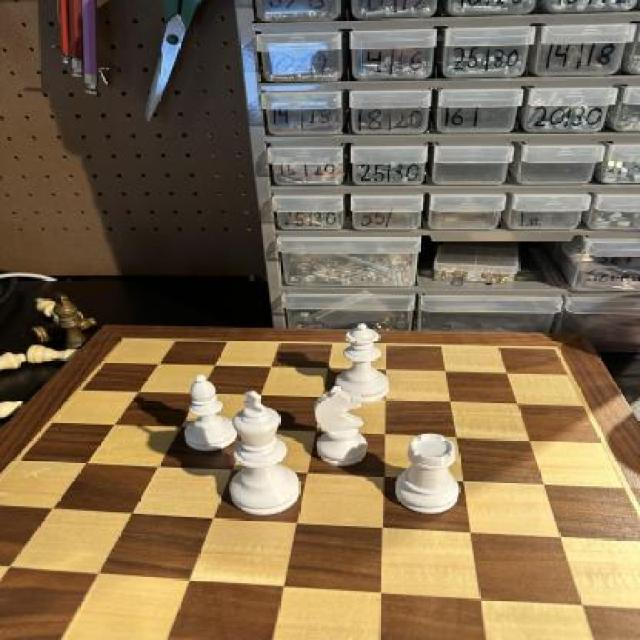black-rook: (175, 372, 238, 454)
white-bishop: (225, 388, 300, 518)
white-king: (306, 386, 372, 469)
white-pawn: (334, 322, 391, 404)
white-queen: (389, 432, 461, 515)
